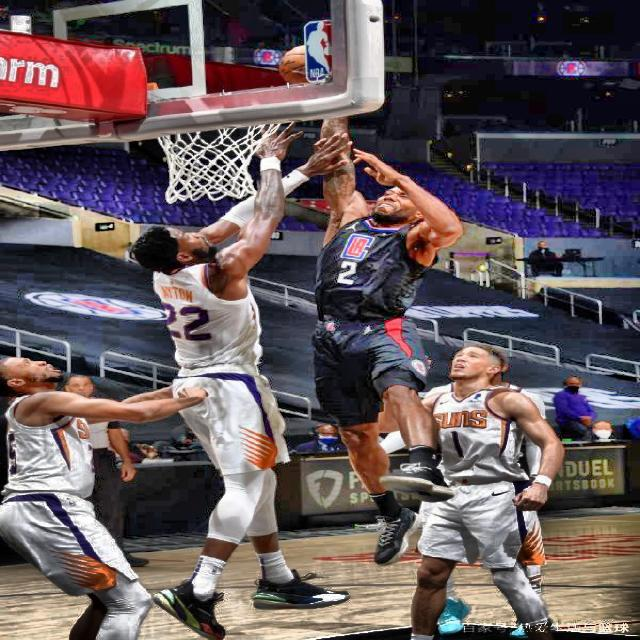rim: (155, 123, 276, 204)
